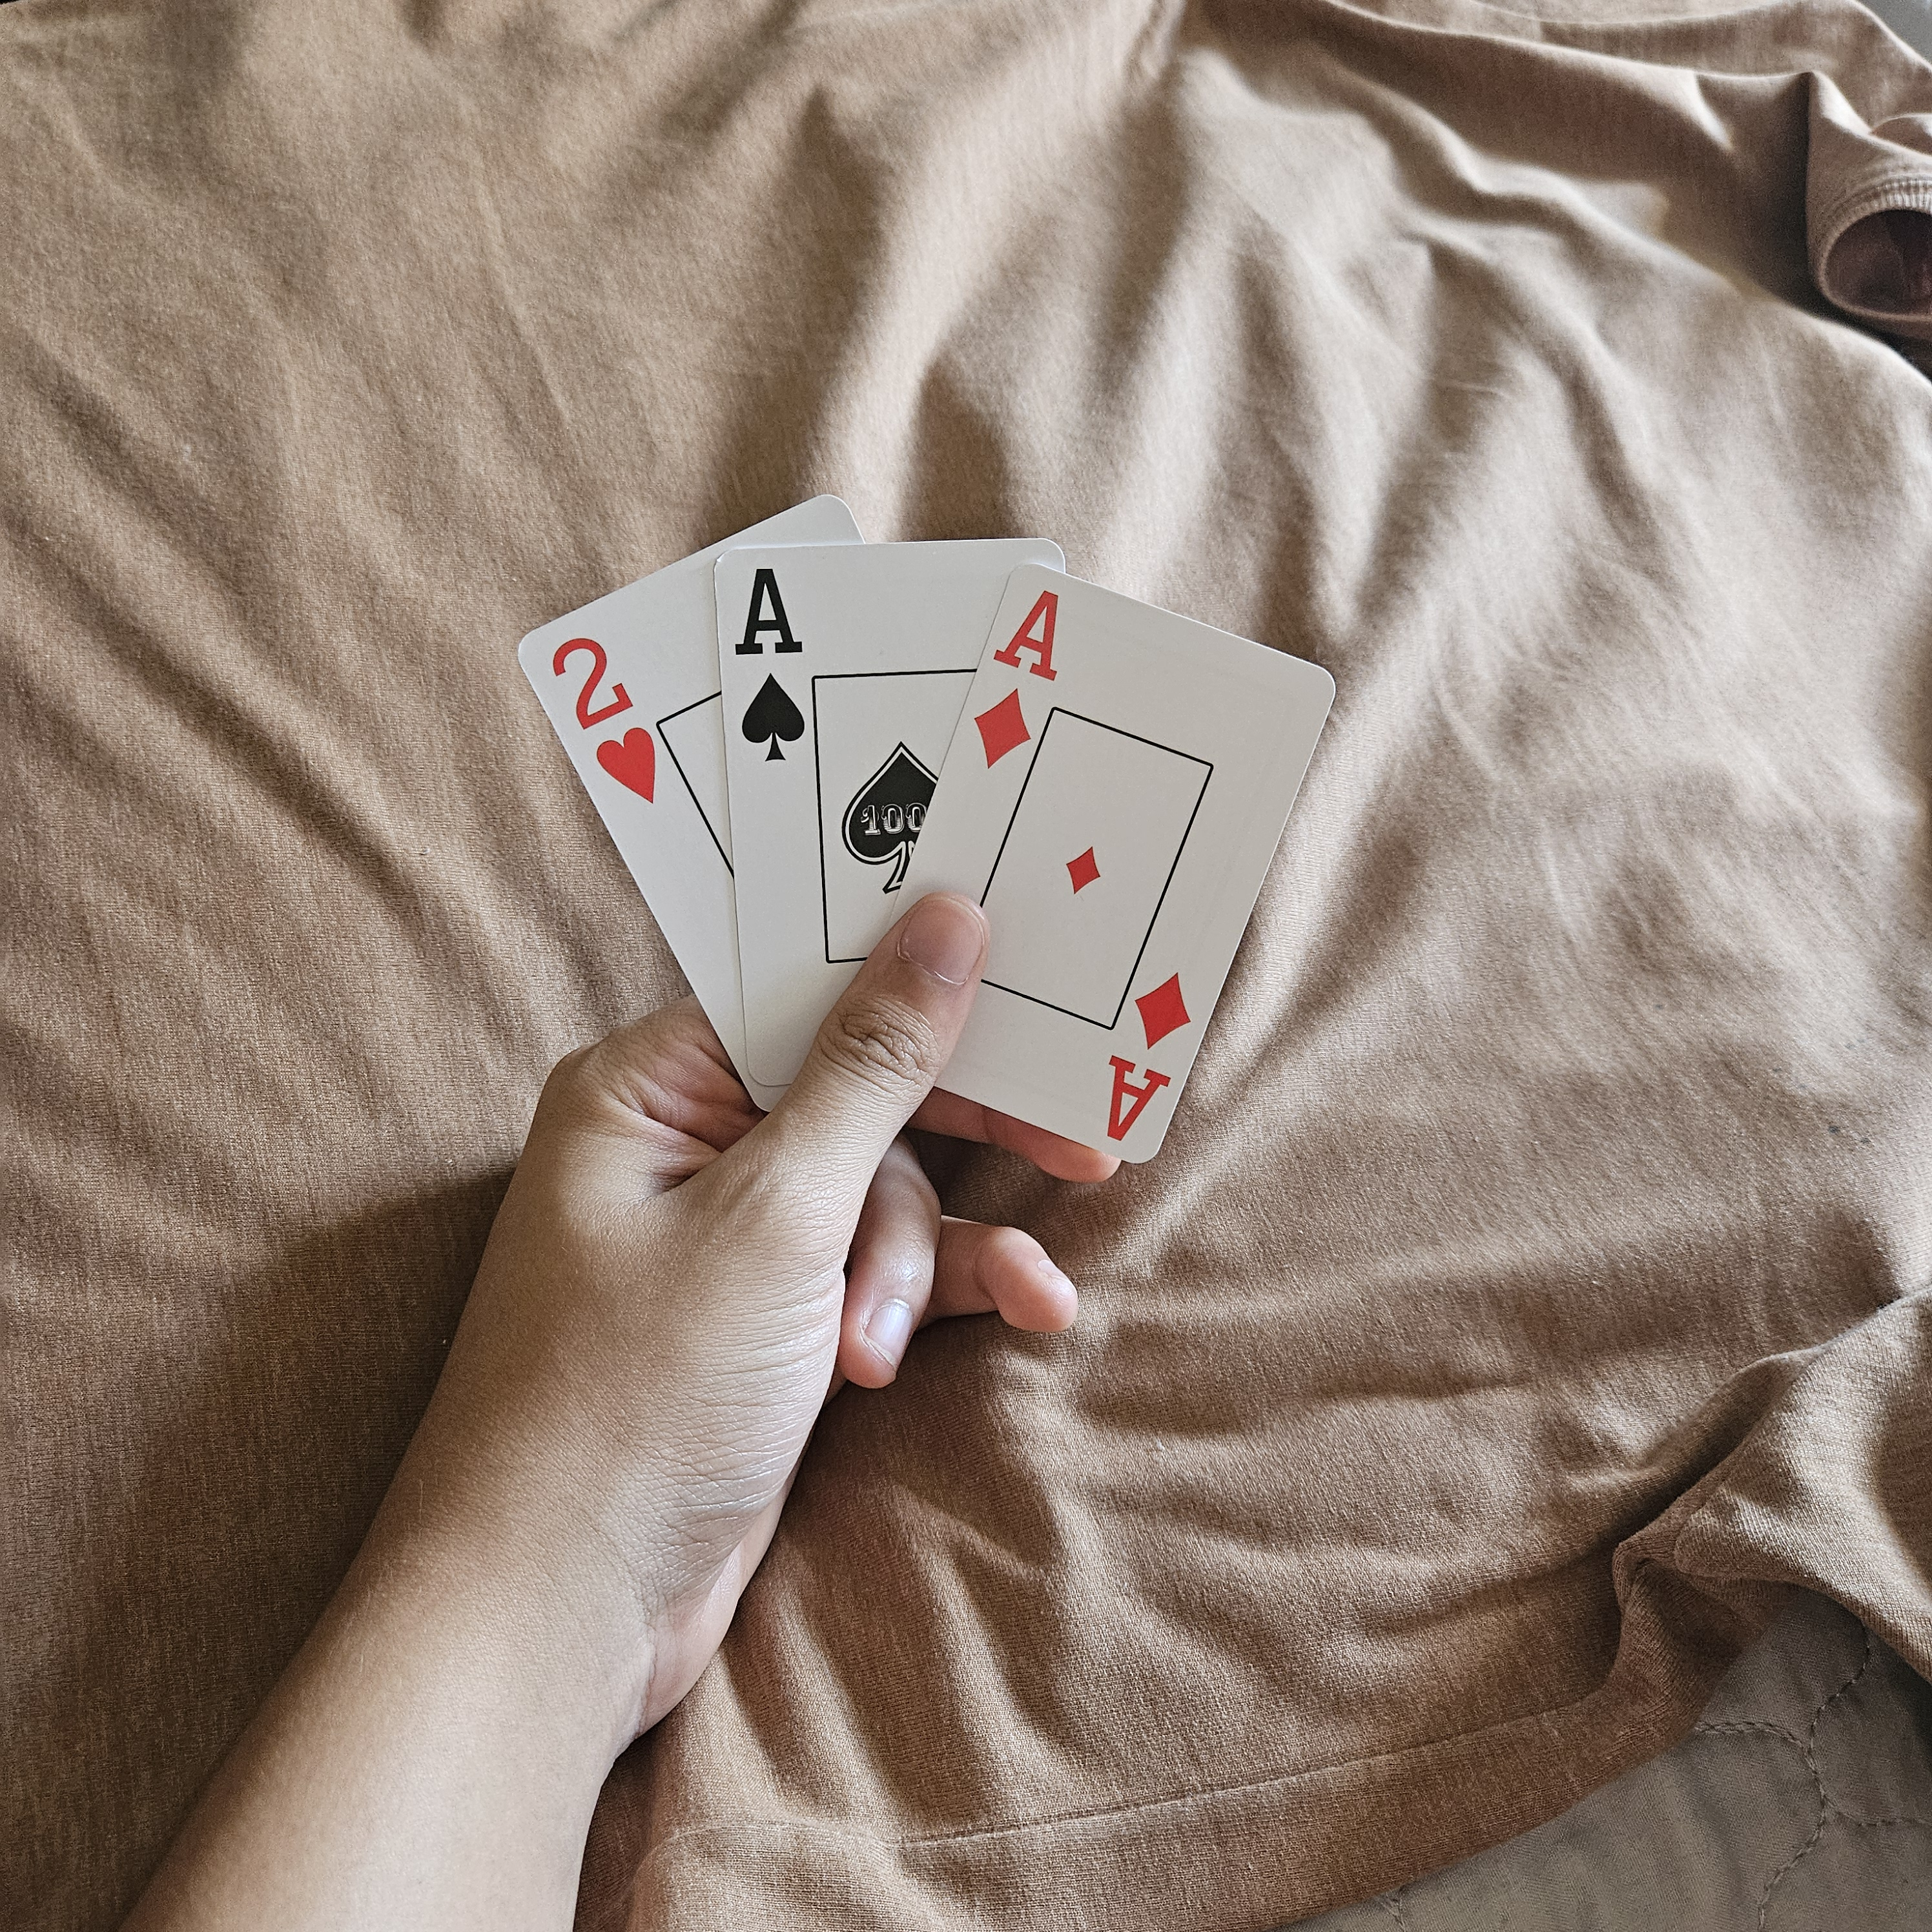2C: (533, 619, 683, 819)
AE: (722, 556, 819, 771)
AO: (959, 579, 1076, 787), (1093, 966, 1203, 1152)
